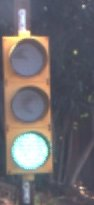Green: (2, 31, 61, 174)
